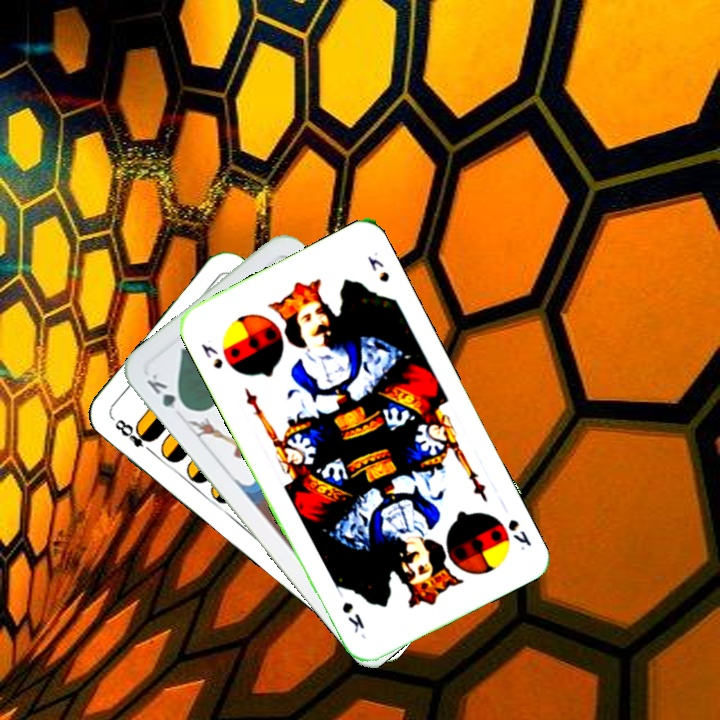E8: (110, 415, 157, 457)
GK: (142, 369, 191, 413)
SK: (504, 515, 535, 553), (197, 339, 226, 372)
